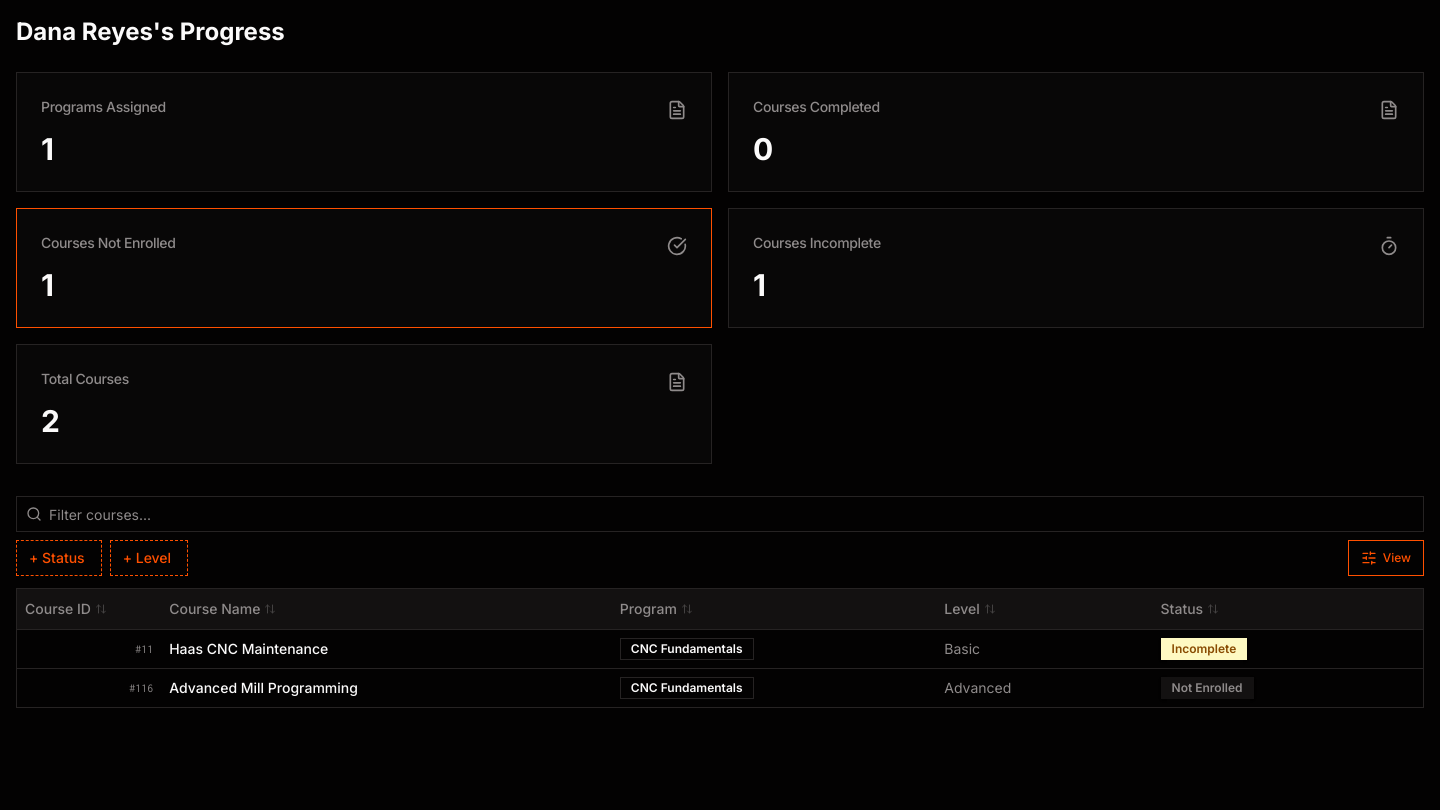
Test: StudentProgressView table › shows the filter-specific empty state when nothing matches
Check: the text "Haas CNC Maintenance" is shown, box [161,629,612,668]
Type "zzz-no-such-course" into the field with placeholder "Filter courses..." at point(720, 514), box [16,496,1424,532]
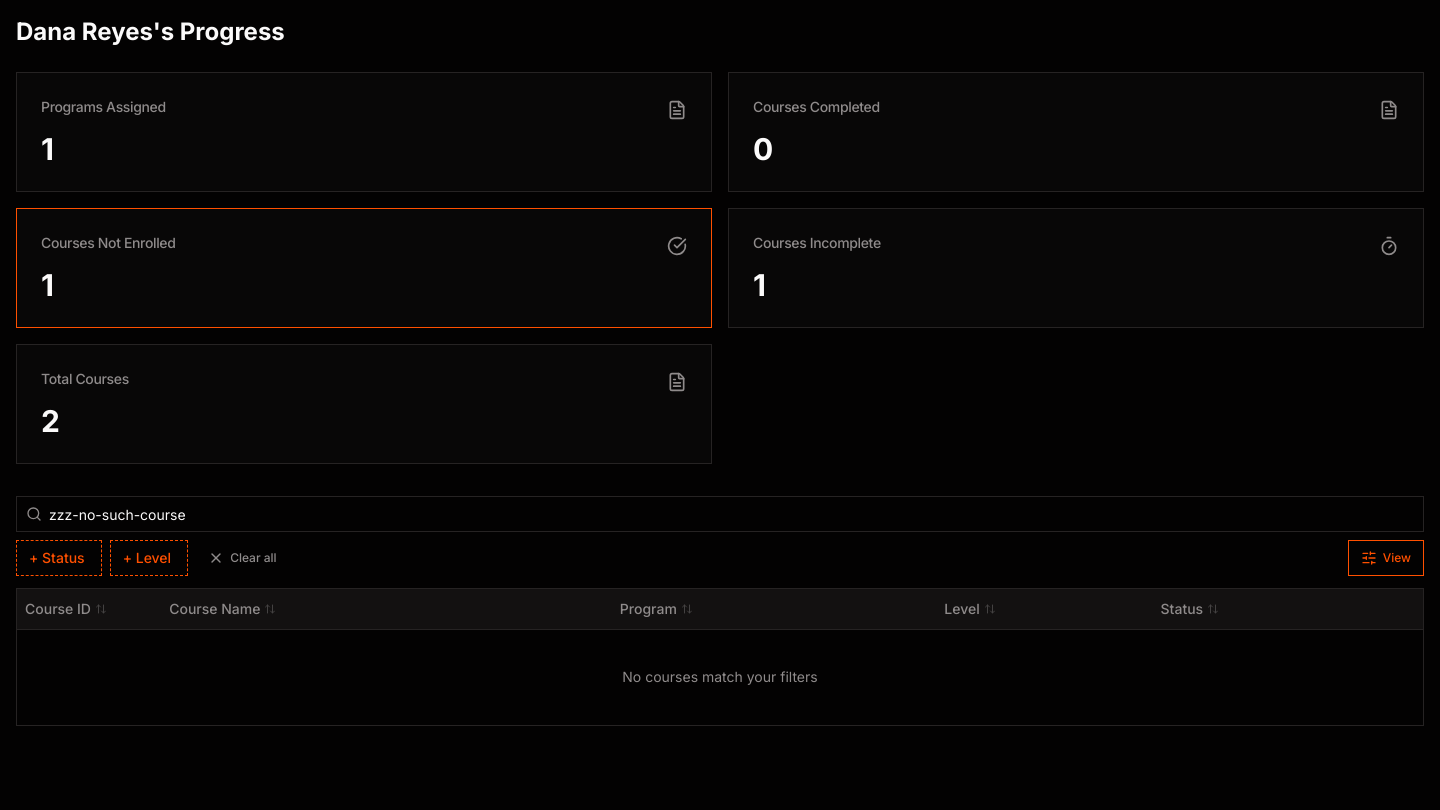
Check: the text "No courses match your filters" is shown, box [17,629,1423,725]
Check: the text "Haas CNC Maintenance" is gone
Click the button "Clear all" at point(242, 558), box [196,542,289,574]
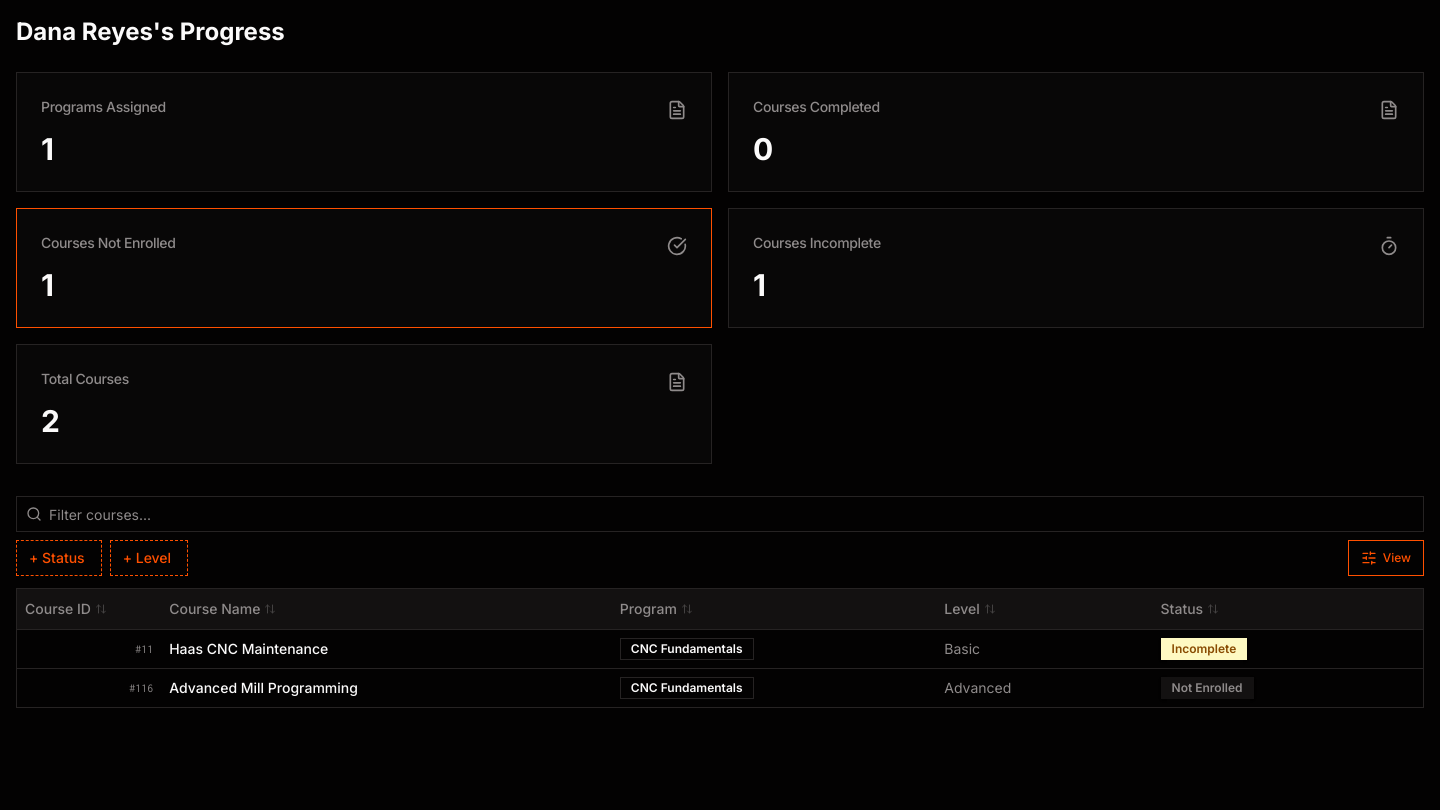
Check: the text "Haas CNC Maintenance" is shown, box [161,629,612,668]
